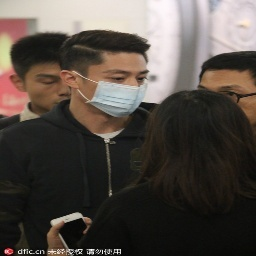correctlyWear: (60, 61, 149, 118)
noWear: (197, 69, 256, 125), (9, 64, 74, 111)
